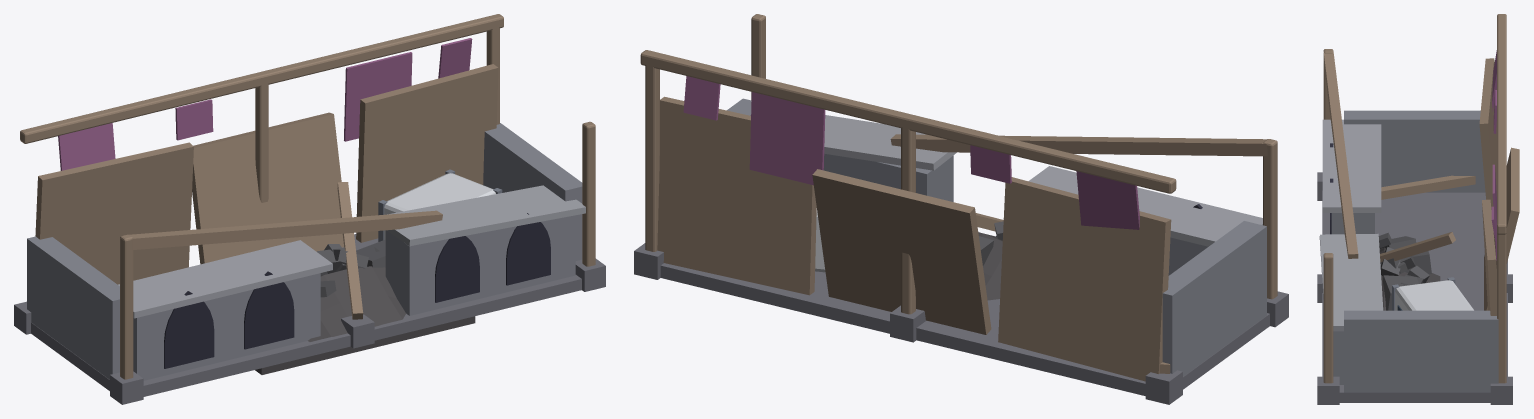
Rendered from PR_Banca_Mercado_C.fbx.
3 renders of one model, left to right at view 1: azimuth 30°, elevation 25°; view 2: azimuth 150°, elevation 25°; view 3: azimuth 270°, elevation 25°, orthographic. The views are drawn at different scales.
Parts seen in each view (by area): view 1: PR_Banca_Mercado_C; view 2: PR_Banca_Mercado_C; view 3: PR_Banca_Mercado_C.
Part boxes in pixels (<box>): PR_Banca_Mercado_C: <box>14,14,605,404</box>; PR_Banca_Mercado_C: <box>634,14,1288,404</box>; PR_Banca_Mercado_C: <box>1317,14,1519,404</box>.
Bounding box in the file's own units: 8.16 × 3.33 × 3.27.
